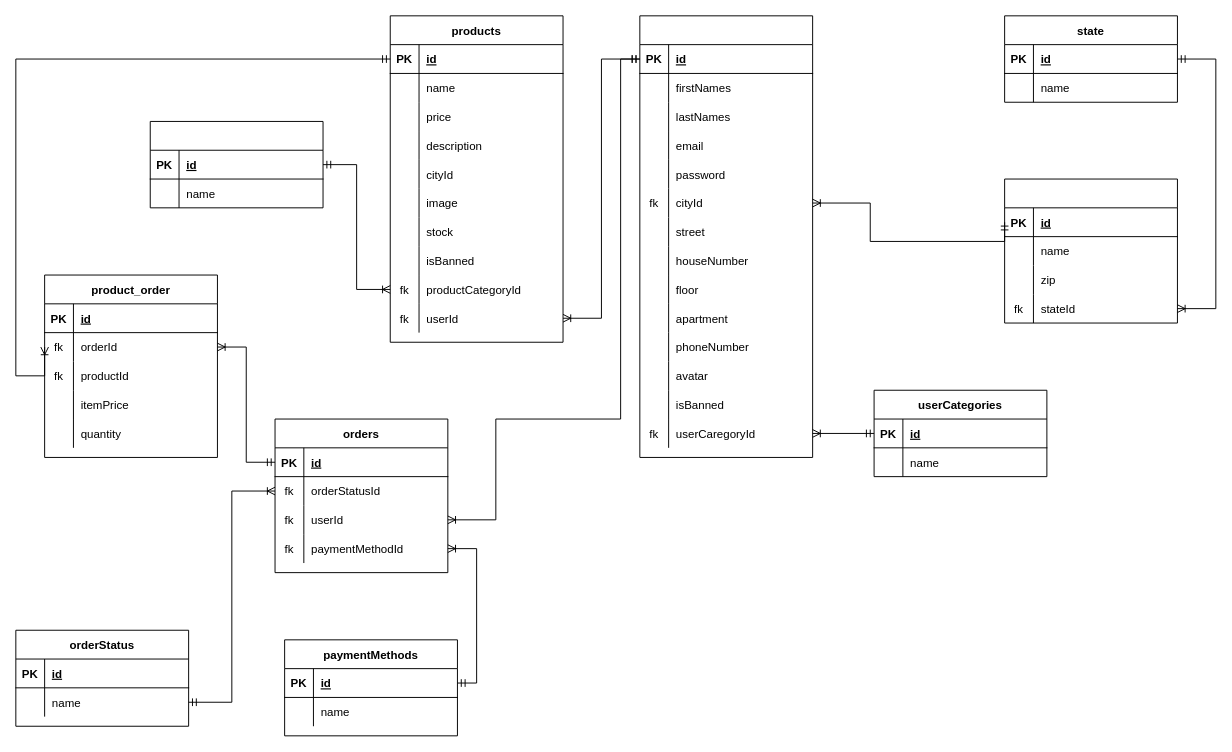
Image size: 1232x752. Some labels were removed from this diagram. Each missing label, with the box of its shape:
city: (1004, 178, 1177, 323)
productCategories: (149, 120, 323, 208)
users: (639, 15, 813, 457)
